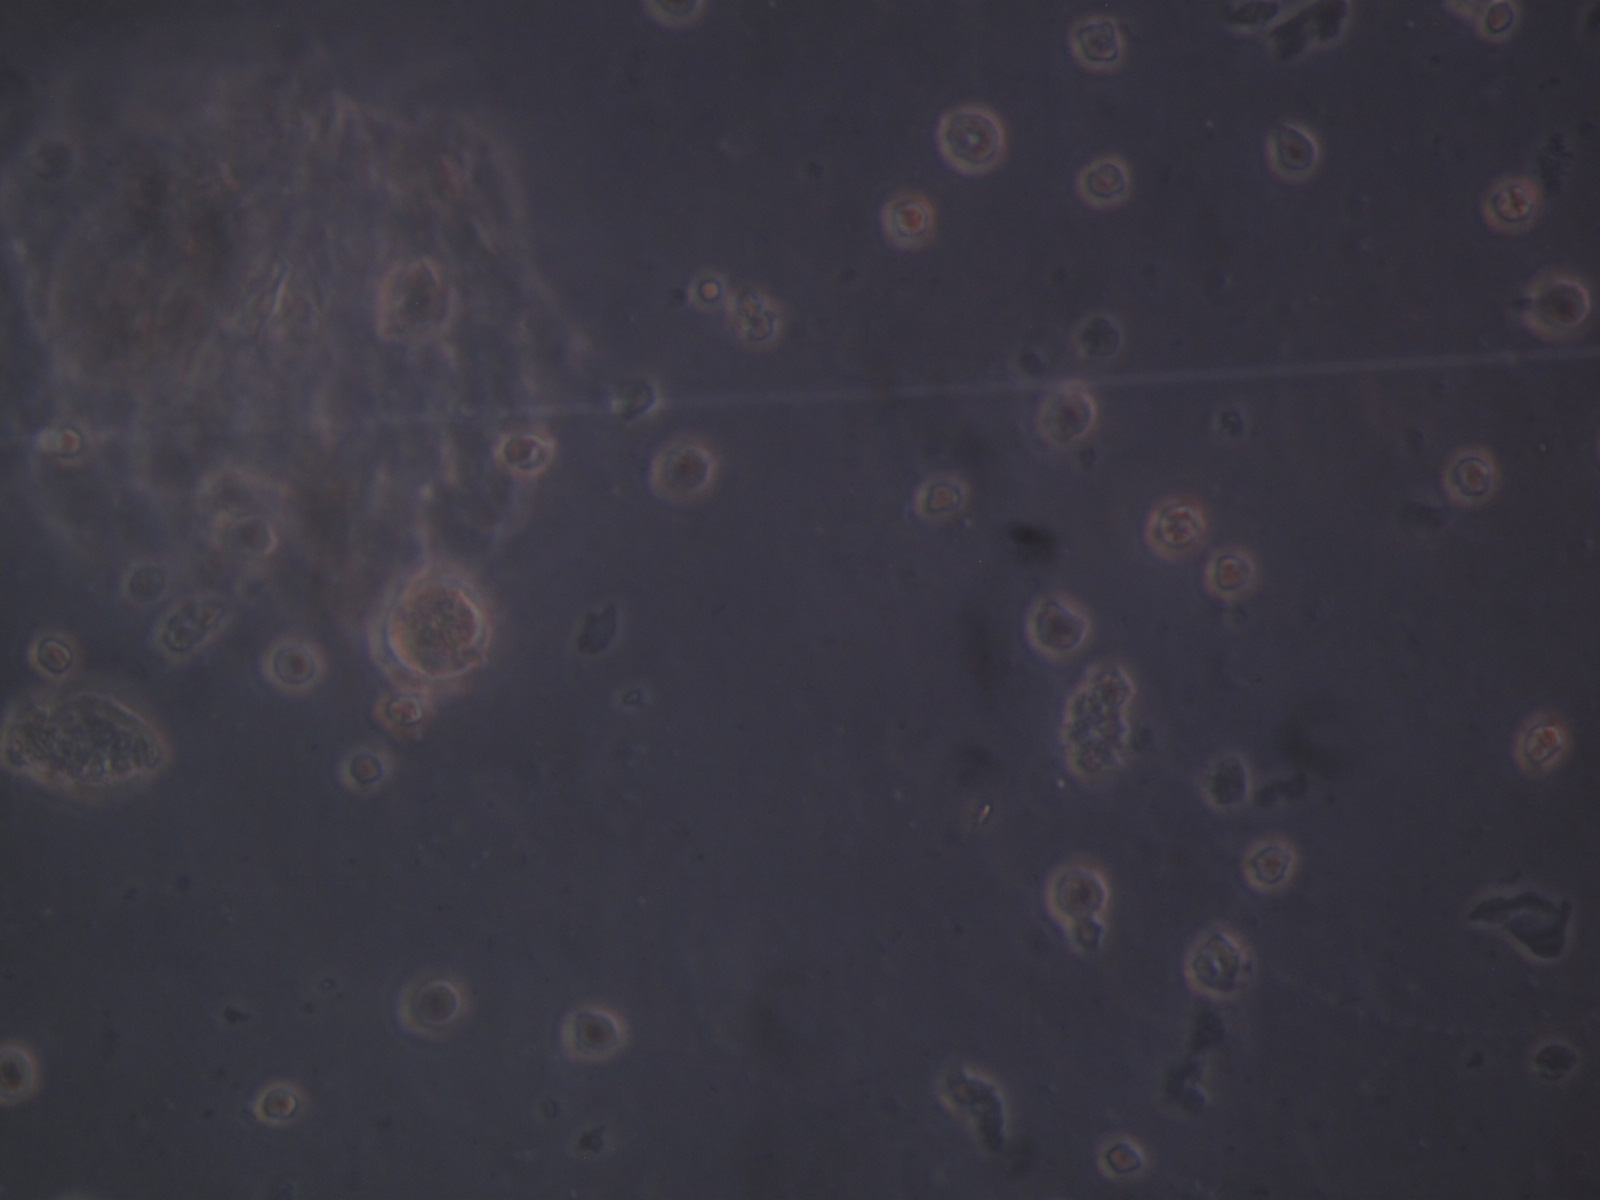hemo: (937, 103, 1008, 176), (1183, 925, 1249, 1000), (1524, 268, 1590, 339), (1026, 591, 1091, 661), (1036, 384, 1099, 451), (651, 440, 719, 500), (1145, 495, 1204, 561), (1047, 860, 1111, 919), (207, 507, 285, 555), (260, 637, 325, 693), (1440, 446, 1499, 508), (399, 977, 459, 1036), (563, 1005, 626, 1060), (724, 285, 780, 347), (1070, 14, 1128, 71), (1483, 176, 1541, 233), (1269, 120, 1322, 182), (881, 192, 936, 250), (1242, 834, 1296, 892), (28, 624, 81, 682), (1514, 713, 1566, 773), (1076, 153, 1133, 205), (374, 686, 428, 740), (1204, 550, 1257, 600), (915, 475, 970, 523), (1, 1037, 38, 1109), (1096, 1134, 1149, 1184), (339, 745, 391, 792), (501, 434, 556, 475), (123, 558, 170, 605), (256, 1084, 304, 1124), (1065, 913, 1107, 957), (648, 1, 708, 32), (1475, 1, 1519, 42)
